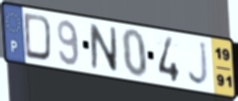0: (118, 27, 150, 79)
4: (156, 34, 181, 84)
9: (56, 18, 81, 67)
D: (22, 11, 54, 63)
J: (187, 40, 211, 89)
N: (88, 22, 119, 75)
